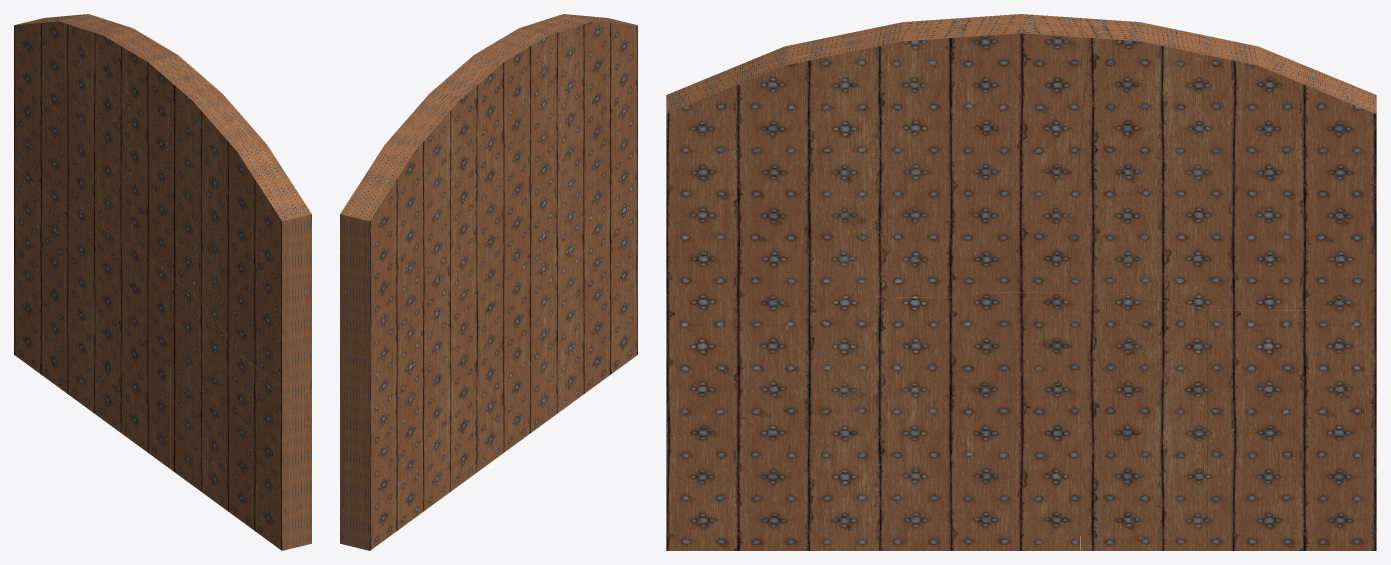
The model's file is Gate_Crack.fbx.
The picture shows the model from 3 angles, left to right: view 1: azimuth 30°, elevation 25°; view 2: azimuth 150°, elevation 25°; view 3: azimuth 270°, elevation 25°; orthographic projection. The views are drawn at different scales.
Parts seen in each view (by area): view 1: Cube_cell.018, Cube_cell.006, Cube_cell.010, Cube_cell, Cube_cell.002, Cube_cell.001, Cube_cell.009, Cube_cell.019, Cube_cell.012, Cube_cell.008, Cube_cell.017, Cube_cell.003 (+4 smaller); view 2: Cube_cell.018, Cube_cell.006, Cube_cell.001, Cube_cell.019, Cube_cell.009, Cube_cell.012, Cube_cell.010, Cube_cell.017, Cube_cell.008, Cube_cell.002, Cube_cell, Cube_cell.003 (+4 smaller); view 3: Cube_cell.016, Cube_cell.006, Cube_cell.004, Cube_cell.005, Cube_cell.007, Cube_cell.015, Cube_cell.013, Cube_cell.011, Cube_cell.012, Cube_cell.019, Cube_cell.002, Cube_cell.014 (+3 smaller).
Boxes of the visible parts, x1,y1,x2,y2 form: Cube_cell.018: [14, 17, 103, 227]; Cube_cell.006: [170, 277, 237, 517]; Cube_cell.010: [218, 183, 296, 385]; Cube_cell: [237, 353, 296, 550]; Cube_cell.002: [192, 123, 286, 321]; Cube_cell.001: [125, 244, 170, 468]; Cube_cell.009: [81, 220, 125, 435]; Cube_cell.019: [81, 22, 151, 246]; Cube_cell.012: [36, 188, 80, 403]; Cube_cell.008: [162, 78, 229, 292]; Cube_cell.017: [126, 45, 184, 267]; Cube_cell.003: [14, 163, 36, 370]; Cube_cell.018: [355, 123, 459, 358]; Cube_cell.006: [526, 219, 593, 435]; Cube_cell.001: [481, 244, 526, 468]; Cube_cell.019: [410, 77, 489, 292]; Cube_cell.009: [437, 277, 481, 501]; Cube_cell.012: [392, 319, 436, 534]; Cube_cell.010: [574, 19, 637, 222]; Cube_cell.017: [467, 45, 526, 267]; Cube_cell.008: [512, 25, 570, 246]; Cube_cell.002: [544, 14, 615, 227]; Cube_cell: [593, 190, 637, 386]; Cube_cell.003: [355, 351, 392, 550]; Cube_cell.016: [1130, 44, 1376, 309]; Cube_cell.006: [789, 297, 953, 550]; Cube_cell.004: [953, 290, 1080, 550]; Cube_cell.005: [1080, 294, 1207, 550]; Cube_cell.007: [666, 80, 842, 332]; Cube_cell.015: [835, 27, 983, 297]; Cube_cell.013: [962, 23, 1089, 291]; Cube_cell.011: [666, 332, 788, 550]; Cube_cell.012: [1207, 310, 1308, 550]; Cube_cell.019: [1068, 18, 1198, 294]; Cube_cell.002: [725, 34, 895, 307]; Cube_cell.014: [1309, 296, 1376, 550].
Size of the model in its own units: 32.57 by 408 by 507.
1 material, 1 textured.
